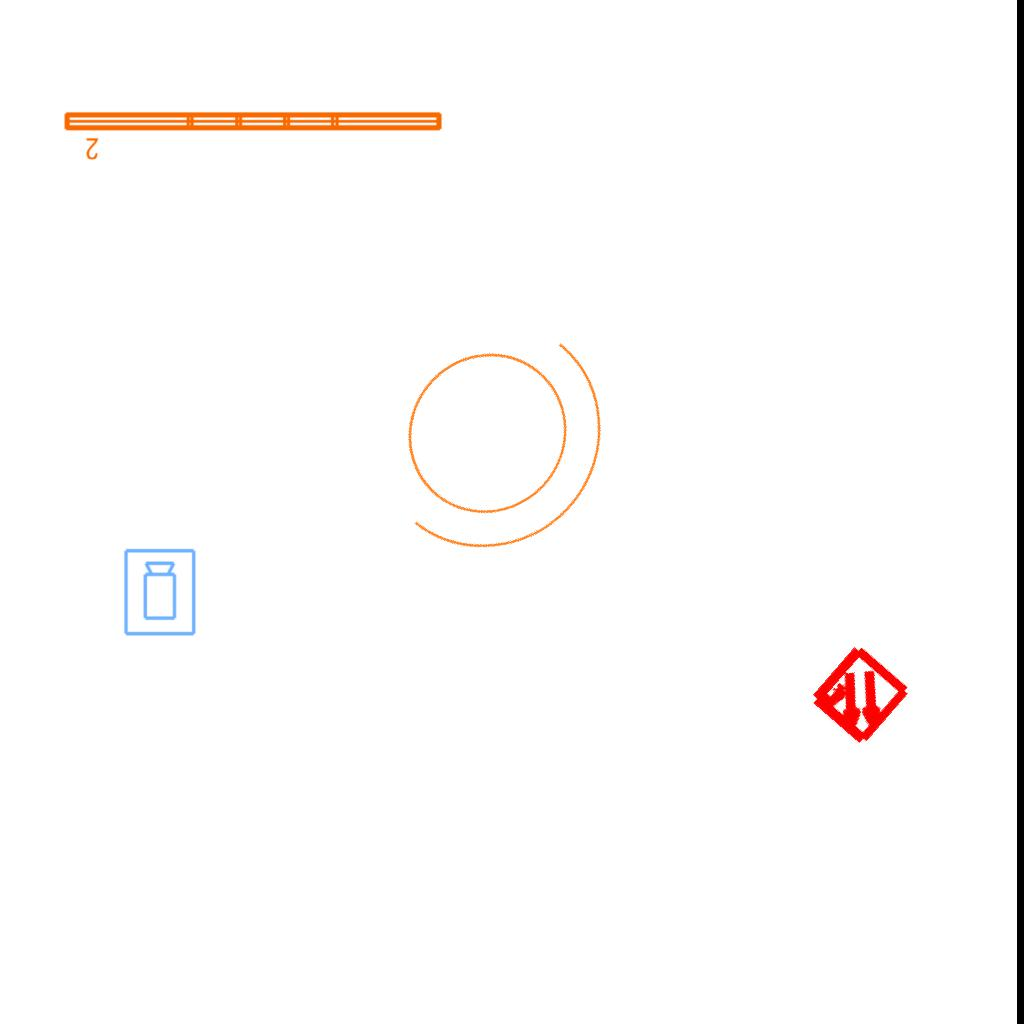Ambulanz_Pendelleuchte_LED: (60, 106, 447, 162)
KFO_Kamera_mit_Festobjektiv: (122, 547, 199, 638)
OT_Multisensormelder_(Kombination_RMO_WMD): (778, 616, 939, 777)
Scheinwerfer_fuer_Alarmbeleuchtung: (328, 261, 670, 608)
